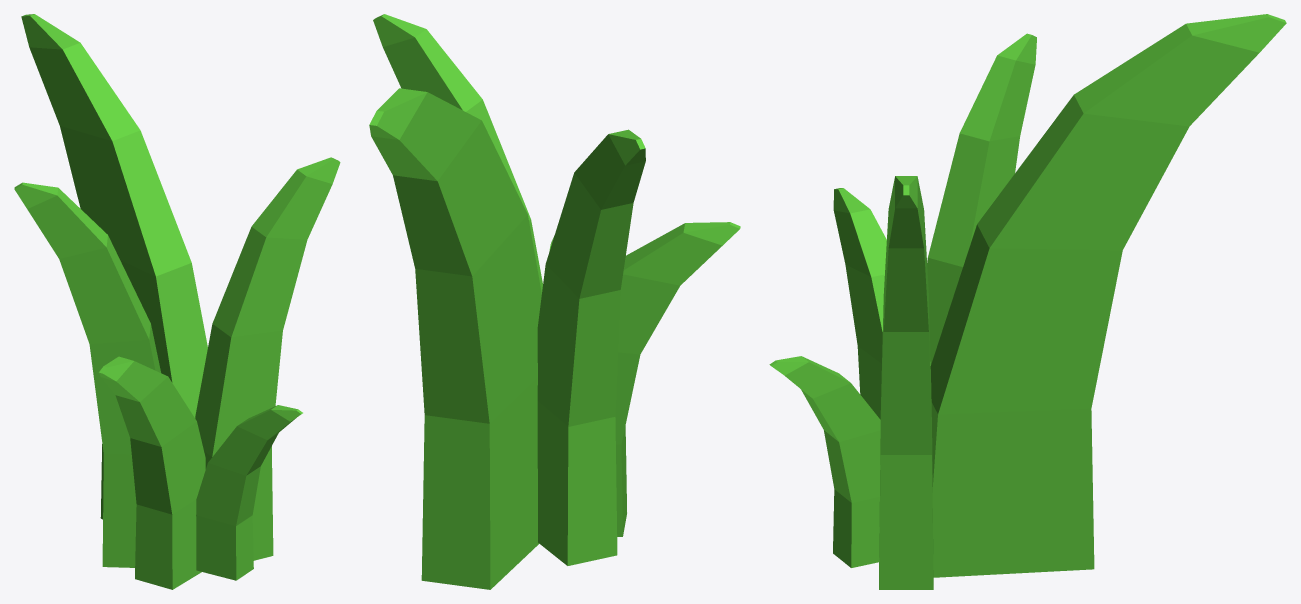
Rendered from herbe_2.fbx.
The picture shows the model from 3 angles, left to right: view 1: azimuth 30°, elevation 25°; view 2: azimuth 150°, elevation 25°; view 3: azimuth 270°, elevation 25°; orthographic projection. The views are drawn at different scales.
Parts seen in each view (by area): view 1: Cube; view 2: Cube; view 3: Cube.
Part boxes in pixels (box(x1,y1,x2,y2)): Cube: box(14, 14, 340, 589); Cube: box(369, 14, 740, 589); Cube: box(769, 14, 1286, 589).
Size of the model in its own units: 121 by 189 by 167.
